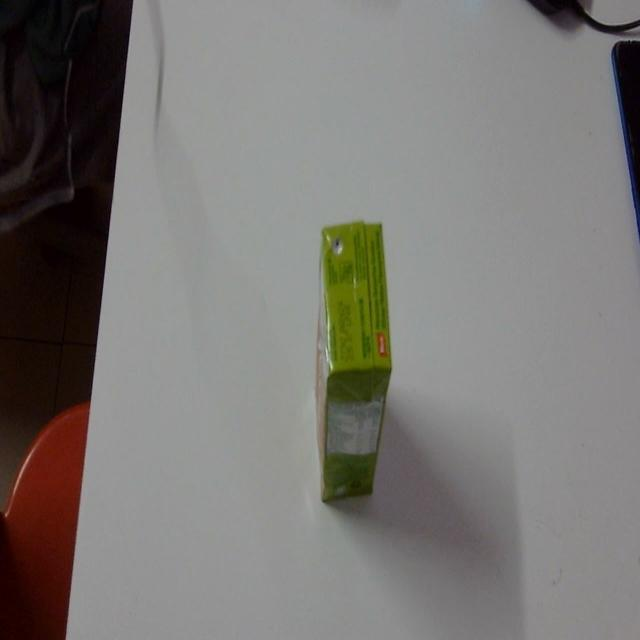plastic_standrotation: (306, 209, 403, 519)
